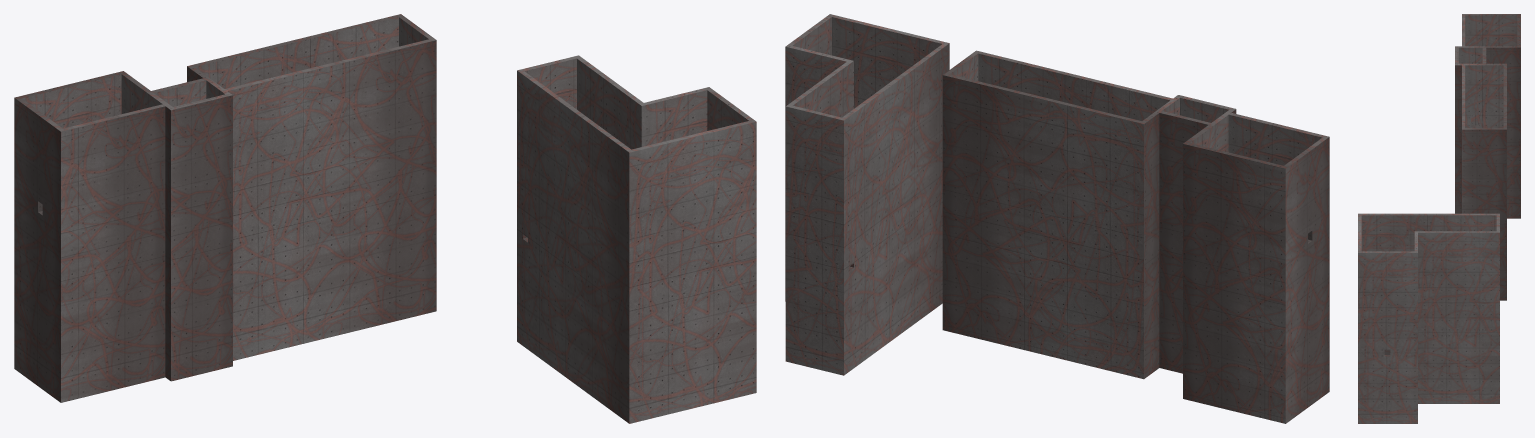
The model's file is P2_walls.fbx.
The picture shows the model from 3 angles, left to right: view 1: azimuth 30°, elevation 25°; view 2: azimuth 150°, elevation 25°; view 3: azimuth 270°, elevation 25°; orthographic projection. The views are drawn at different scales.
Visible parts, largest first — view 1: p2_walls; view 2: p2_walls; view 3: p2_walls.
Boxes of the visible parts, x1=… form: p2_walls: x1=14, y1=14, x2=756, y2=423; p2_walls: x1=785, y1=14, x2=1329, y2=423; p2_walls: x1=1358, y1=14, x2=1520, y2=423.
Size of the model in its own units: 2580 by 1409 by 939.
